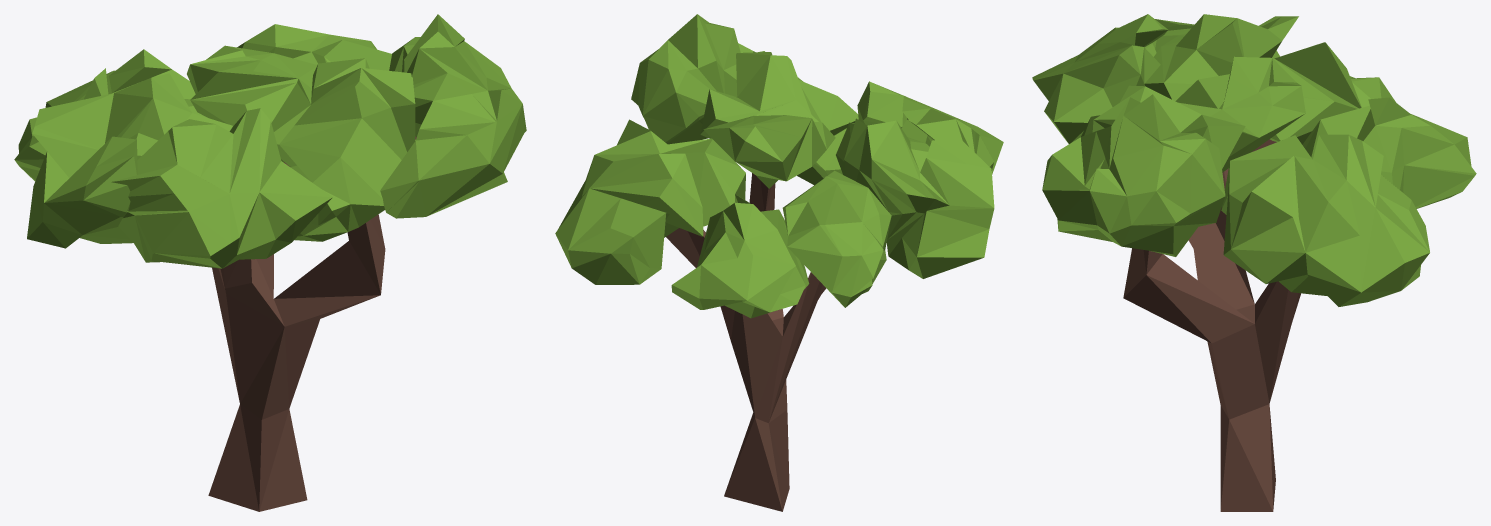
Rendered from modelDraco.gltf.
3 views of the same model, side by side, from view 1: azimuth 30°, elevation 25°; view 2: azimuth 150°, elevation 25°; view 3: azimuth 270°, elevation 25° (orthographic). The views are drawn at different scales.
Visible parts, largest first — view 1: node_MeshObject299166464-PolyPaper20; view 2: node_MeshObject299166464-PolyPaper20; view 3: node_MeshObject299166464-PolyPaper20.
Boxes of the visible parts, bbox=[...] form: node_MeshObject299166464-PolyPaper20: bbox=[14, 14, 526, 511]; node_MeshObject299166464-PolyPaper20: bbox=[555, 14, 1003, 511]; node_MeshObject299166464-PolyPaper20: bbox=[1032, 14, 1476, 511].
Bounding box in the file's own units: 1.65 × 1.74 × 1.52.
